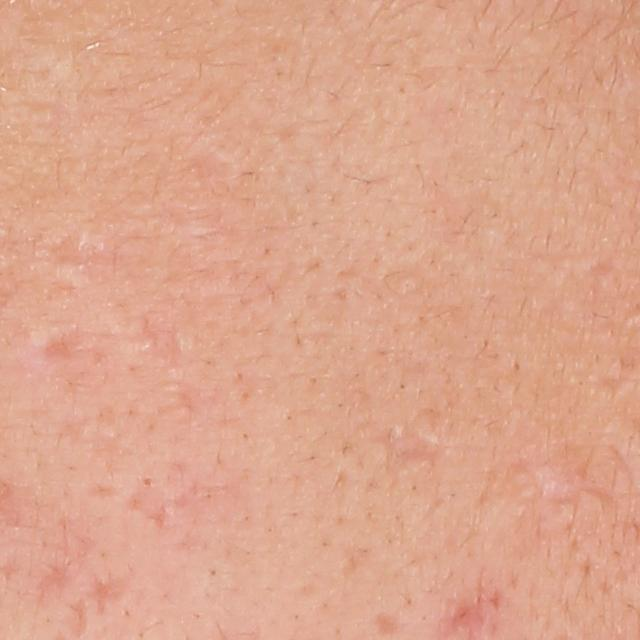atrophic_scar: (366, 425, 449, 477), (34, 556, 78, 608), (122, 487, 171, 530), (85, 571, 123, 618), (369, 606, 405, 639), (68, 599, 90, 640)
comedo: (137, 473, 160, 491)
